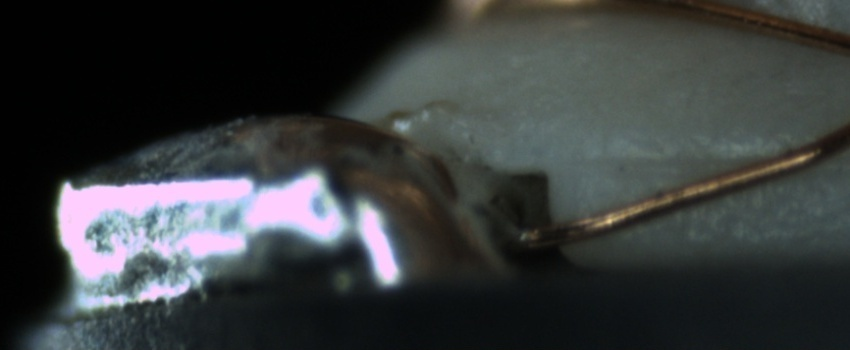DL: (579, 126, 840, 191)
